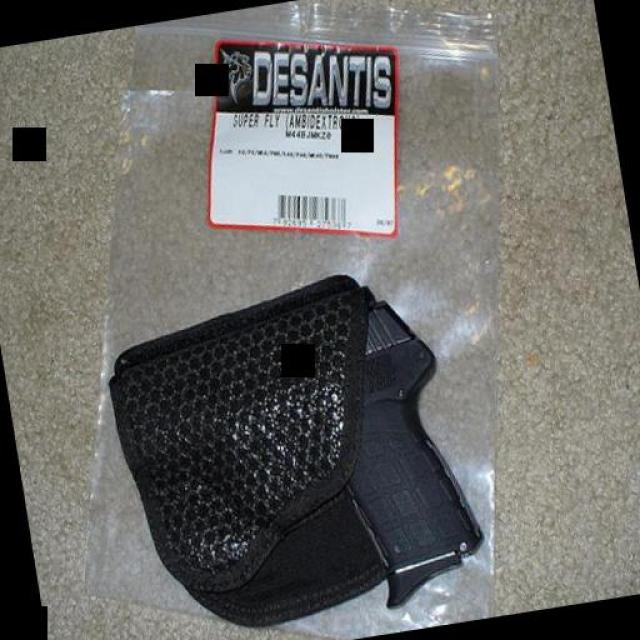gun: (60, 268, 494, 632)
